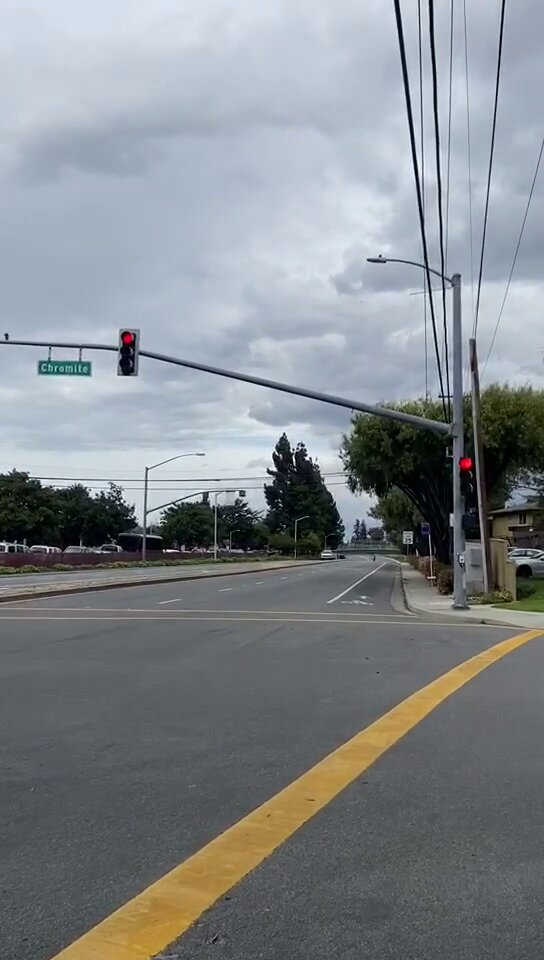red_light: (119, 327, 139, 376), (459, 456, 477, 498)
